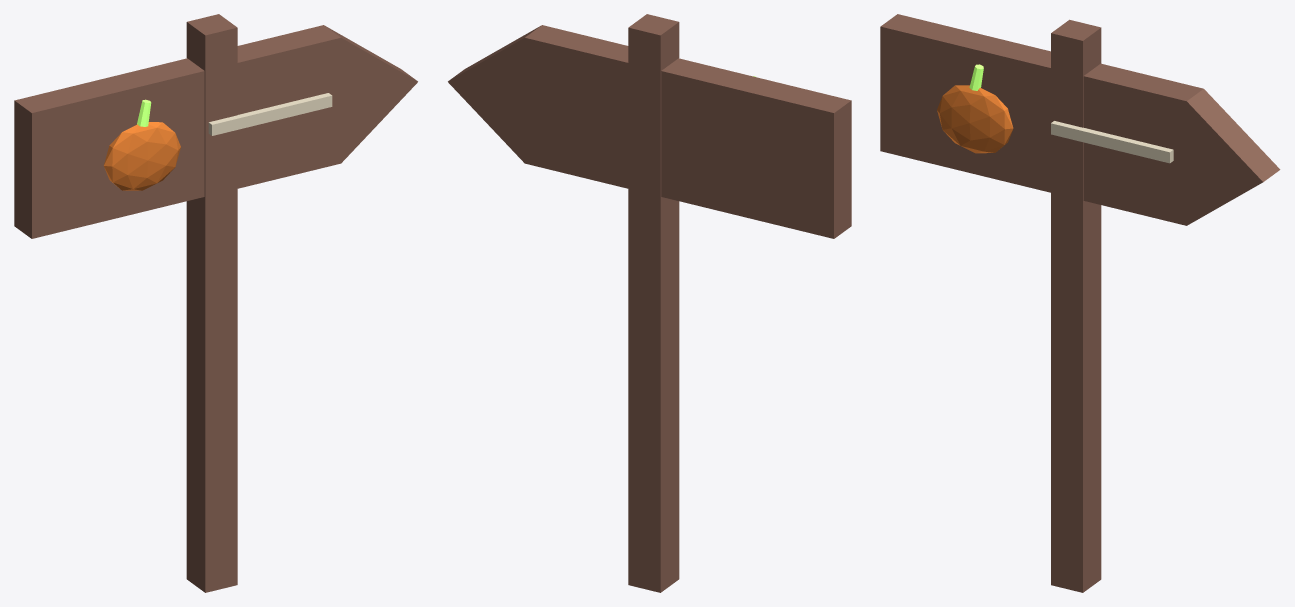
File: moonlit-mischief-wooden-signpost-c4aeb657__2272.glb
The picture shows the model from 3 angles, left to right: view 1: azimuth 30°, elevation 25°; view 2: azimuth 150°, elevation 25°; view 3: azimuth 330°, elevation 25°; orthographic projection.
Parts seen in each view (by area): view 1: wooden-signpost; view 2: wooden-signpost; view 3: wooden-signpost.
Boxes of the visible parts, box(x1,y1,x2,y2) form: wooden-signpost: box(14, 14, 417, 592); wooden-signpost: box(448, 14, 851, 592); wooden-signpost: box(880, 14, 1280, 592).
Size of the model in its own units: 0.9 by 1.24 by 0.125.
